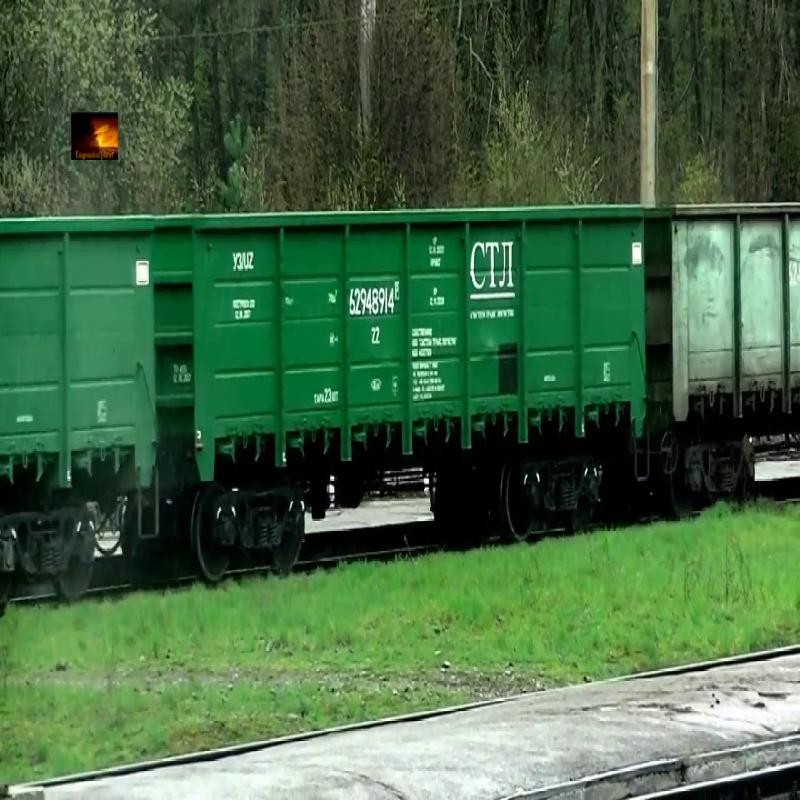train: (158, 212, 645, 491), (1, 214, 157, 511), (648, 201, 800, 457)
